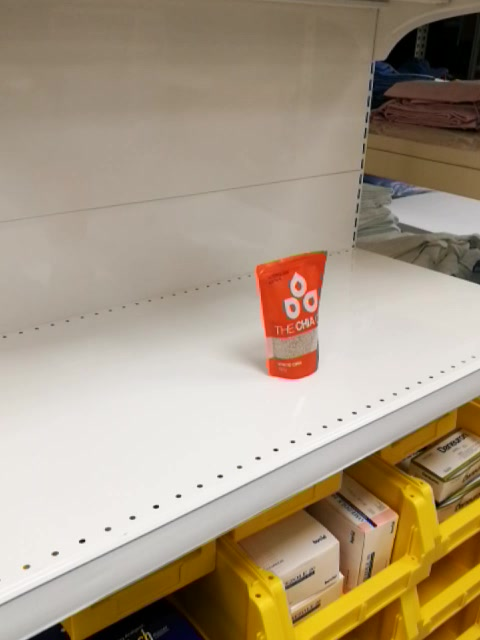whitechia: (254, 247, 333, 384)
